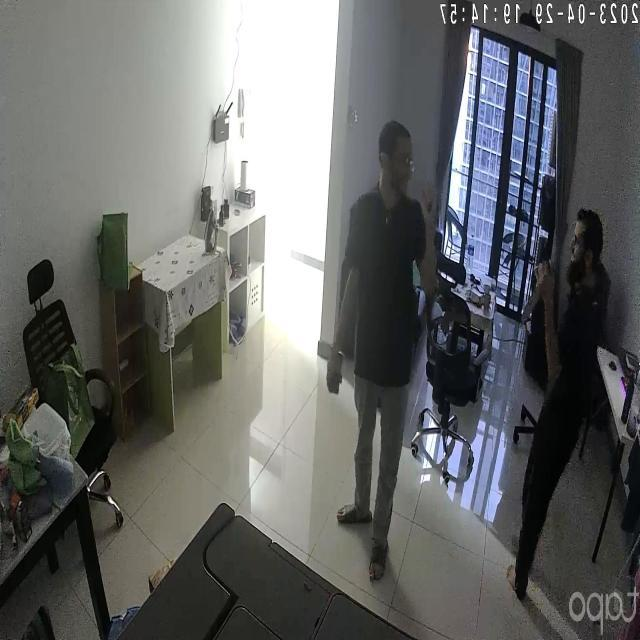Knife: (518, 249, 558, 323)
